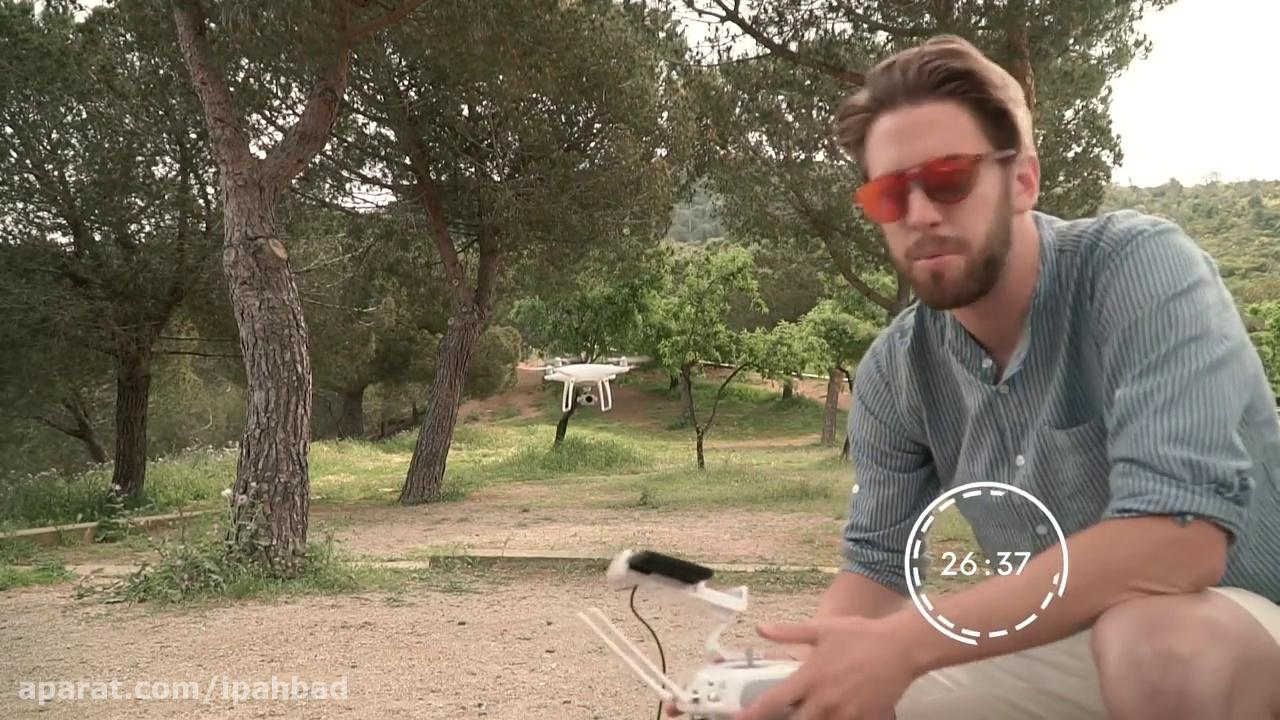drone: (533, 348, 653, 413)
